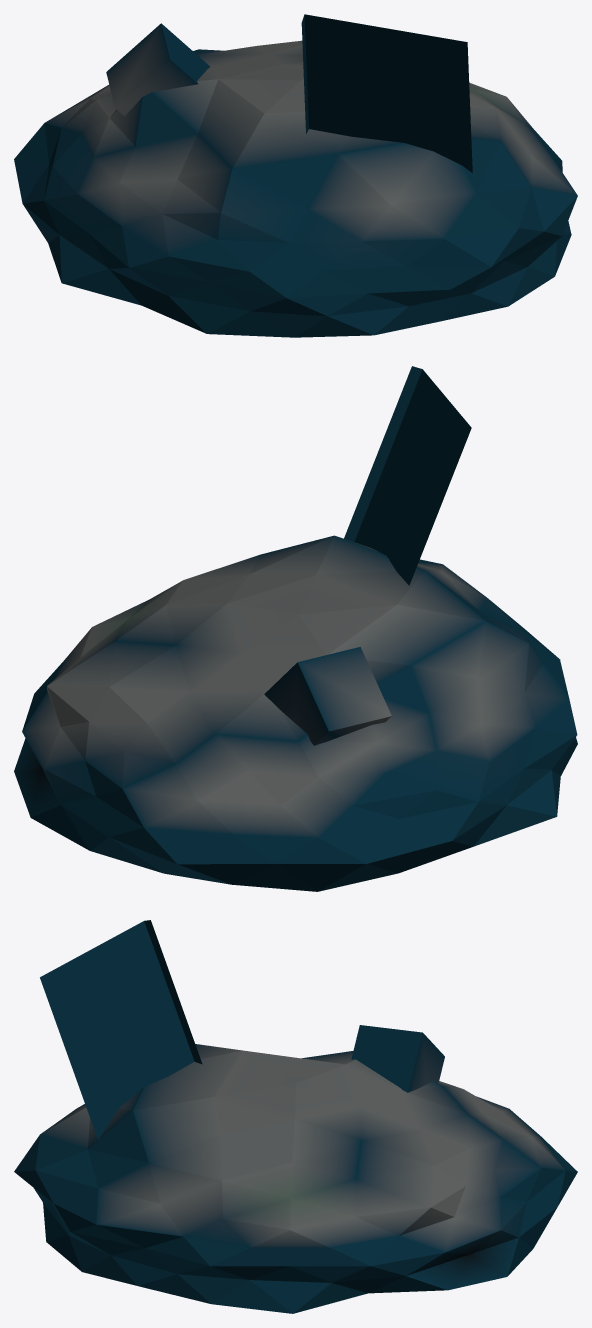
Rendered from FBX_pile.fbx.
3 renders of one model, top to bottom at view 1: azimuth 30°, elevation 25°; view 2: azimuth 150°, elevation 25°; view 3: azimuth 270°, elevation 25°, orthographic. The views are drawn at different scales.
Visible parts, largest first — view 1: FBX_pile; view 2: FBX_pile; view 3: FBX_pile.
Part boxes in pixels (<box>): FBX_pile: <box>14,14,577,337</box>; FBX_pile: <box>14,366,577,891</box>; FBX_pile: <box>14,920,577,1313</box>.
Bounding box in the file's own units: 646 × 417 × 743.
